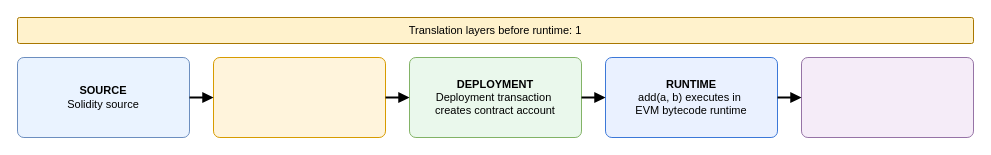
The diagram is 991 pixels wide and 155 high, and some of its shapes have lost their labels. The shapes that lost their labels are listed below. From the top down, each one's box as (x1, y1, x2, y2) in pixels, then its label:
(212, 56, 386, 138): TRANSLATION solc compiles source to EVM bytecode + ABI
(800, 56, 974, 138): STATE / OUTPUT Storage write and readResult() via call execution
